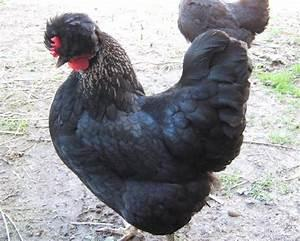hen: (42, 10, 254, 240)
